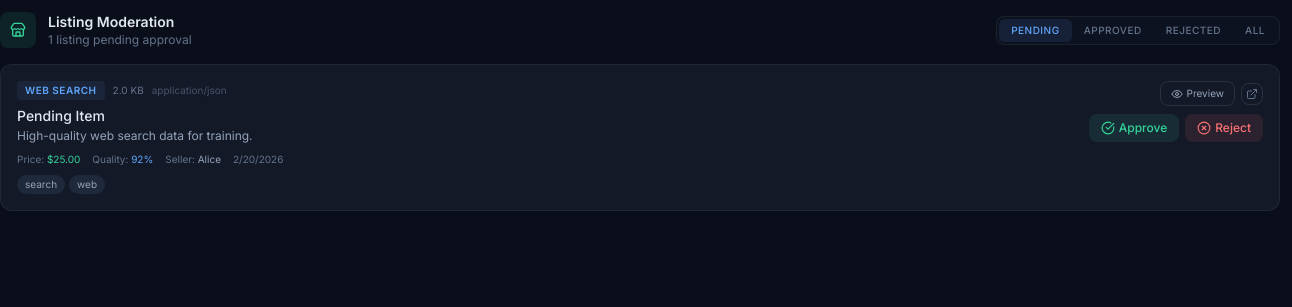
Test: ListingModeration › shows empty state for rejected tab when no rejected listings
Click the button "rejected": x=1193, y=30 [1154,18,1233,42]
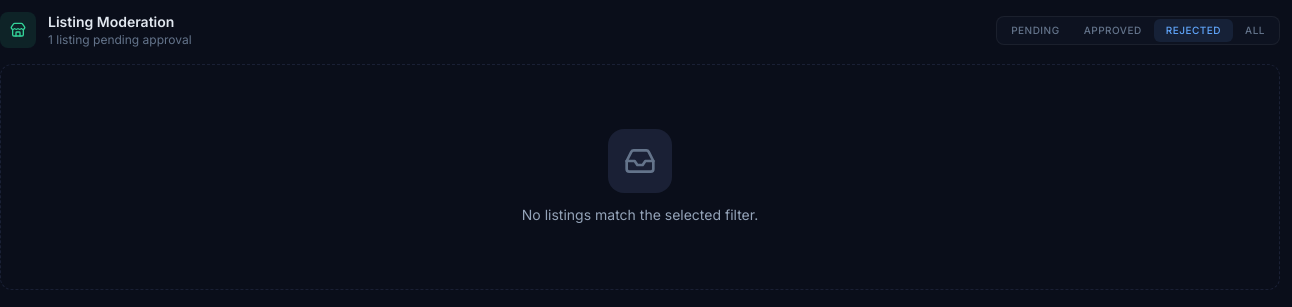
Expected: the text "No listings match the selected filter." is shown, [522,205,758,225]
